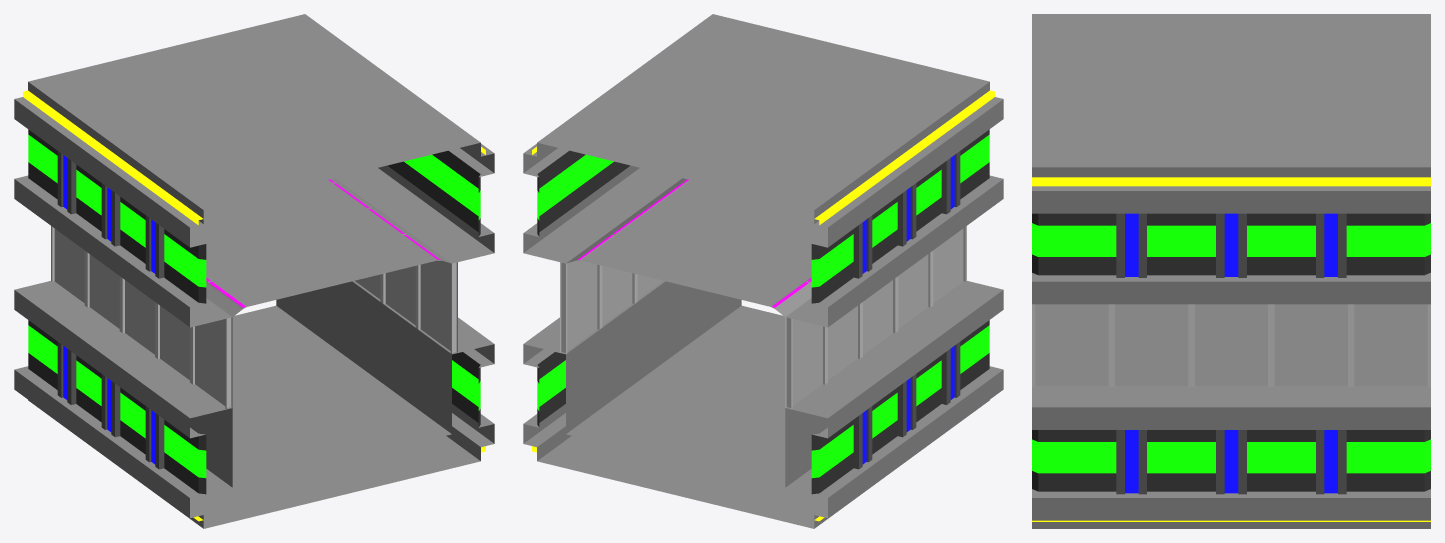
File: Building_08.FBX
3 renders of one model, left to right at view 1: azimuth 30°, elevation 25°; view 2: azimuth 150°, elevation 25°; view 3: azimuth 270°, elevation 25°, orthographic. The views are drawn at different scales.
Visible parts, largest first — view 1: Building_08_LOD0; view 2: Building_08_LOD0; view 3: Building_08_LOD0.
Boxes of the visible parts, left/top/right/bottom form: Building_08_LOD0: left=14, top=14, right=494, bottom=528; Building_08_LOD0: left=523, top=14, right=1003, bottom=528; Building_08_LOD0: left=1032, top=14, right=1430, bottom=528.
Size of what is drawn, in the model's own units: 180 by 180 by 180.
